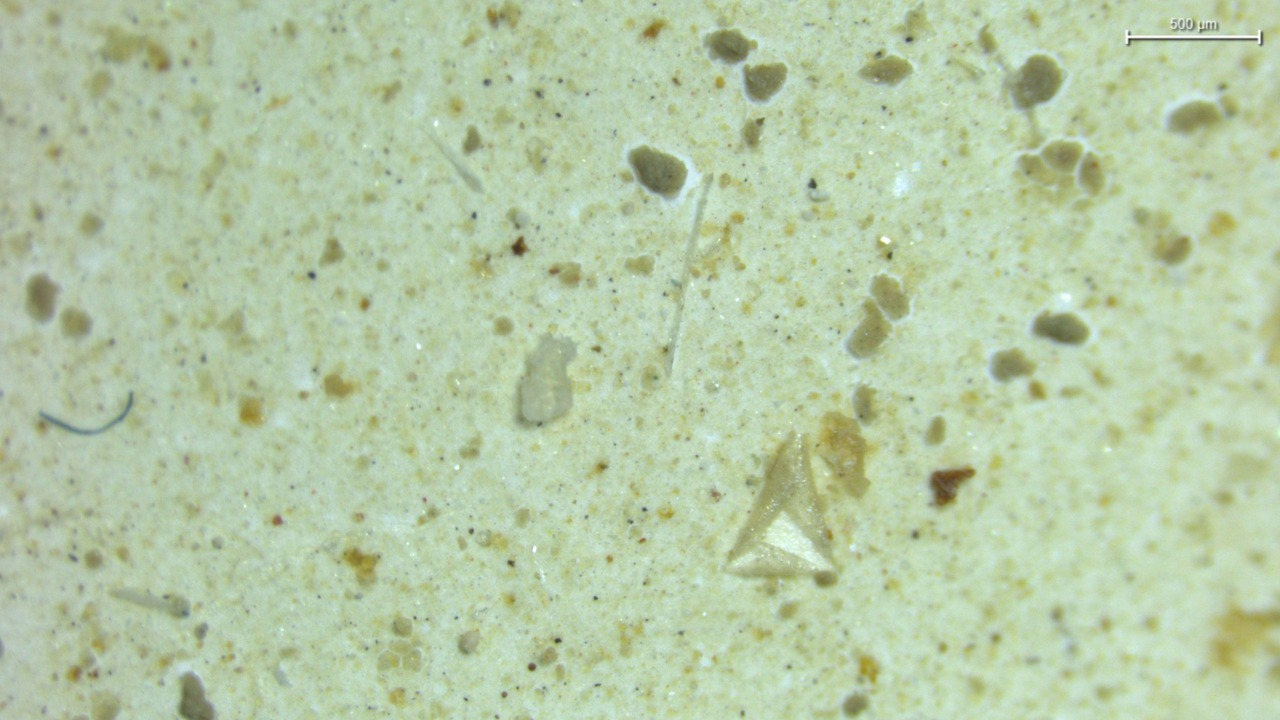microplastic_fragment: (725, 431, 835, 582), (518, 333, 576, 425)
